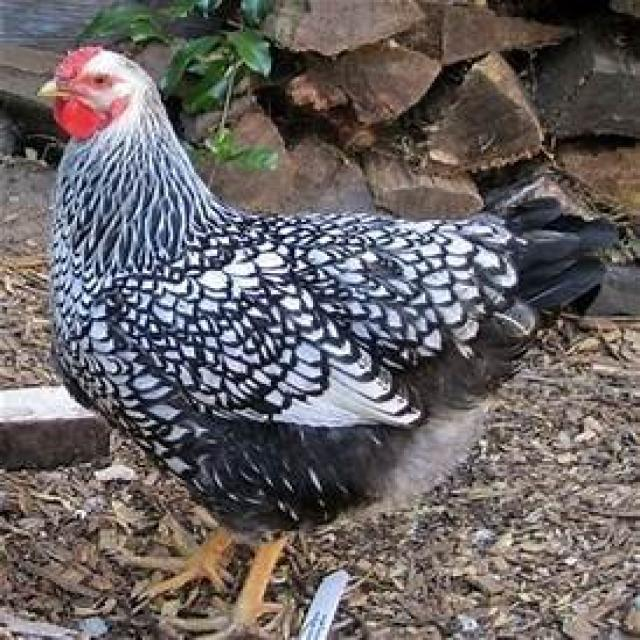animal: (33, 43, 619, 638)
